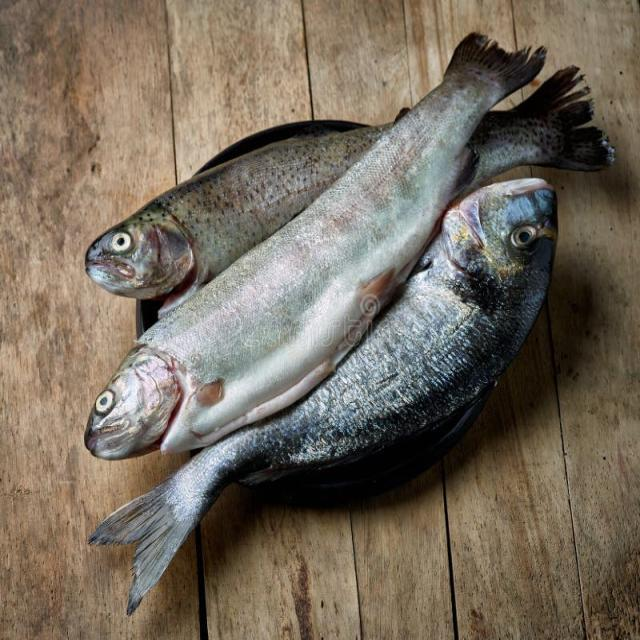fish: (91, 177, 556, 611), (87, 33, 545, 457), (84, 107, 409, 318), (455, 65, 613, 194)
